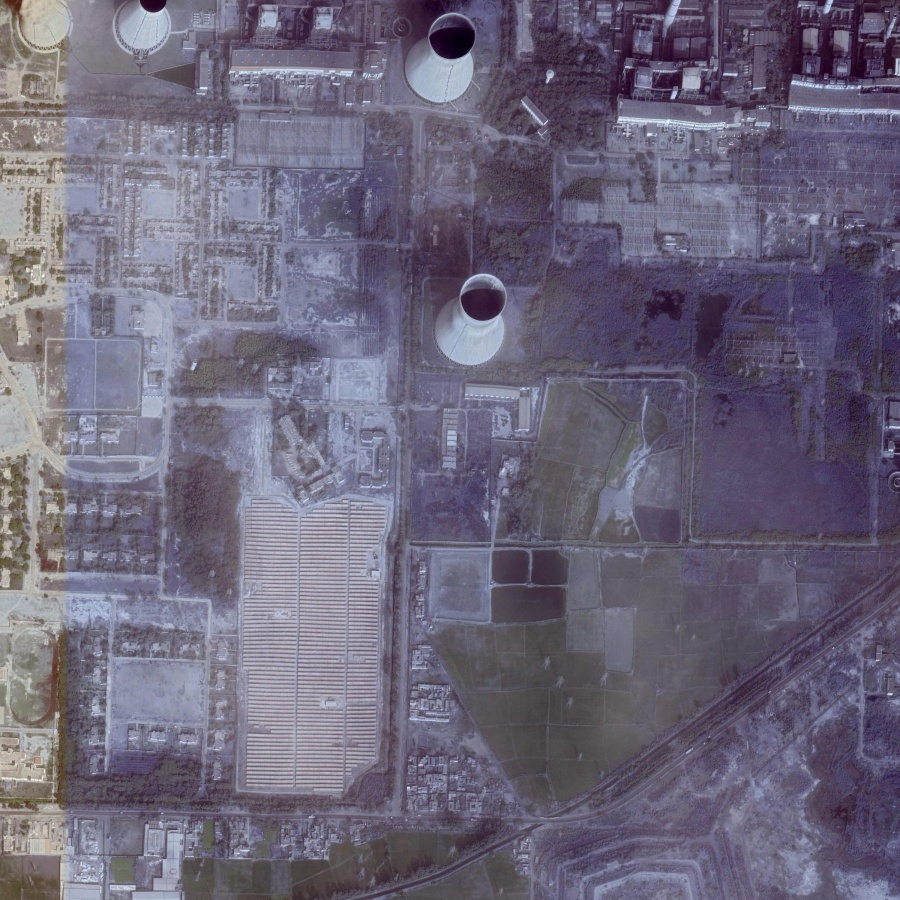PowerPlant: (415, 261, 659, 535)
